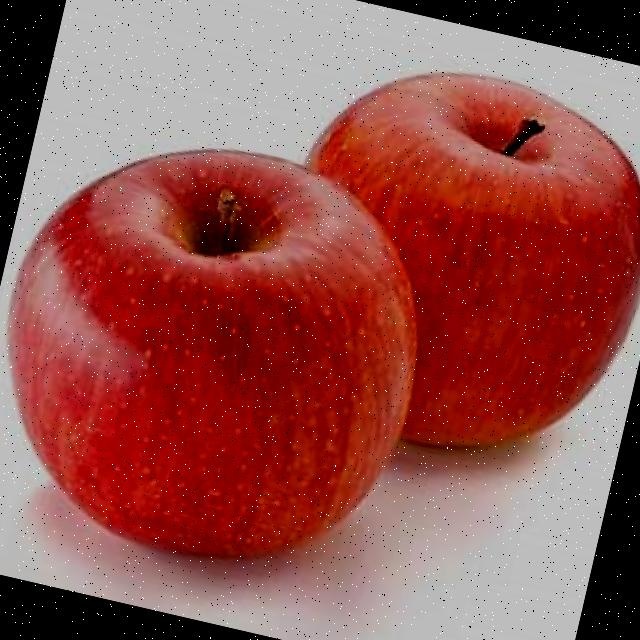apple: (0, 102, 460, 597), (308, 39, 640, 243)
